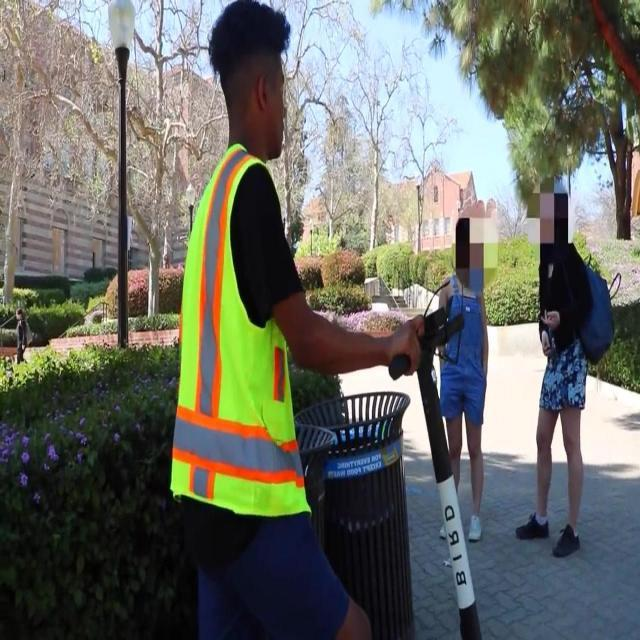NoHelmet: (205, 0, 297, 153)
Vest: (173, 158, 316, 511)
